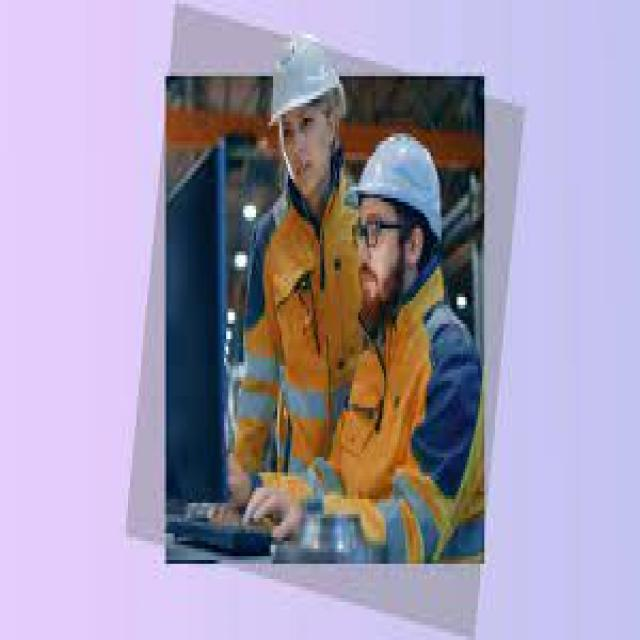Reflective-Jacket: (333, 286, 488, 564), (236, 187, 362, 518)
Safety-Helmet: (348, 126, 452, 240), (264, 30, 350, 134)
